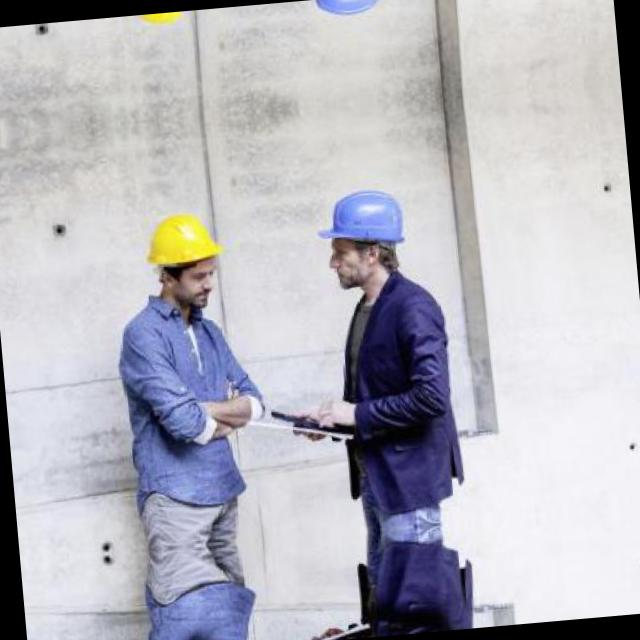helmet: (305, 164, 419, 308), (143, 200, 230, 310), (289, 0, 397, 43), (125, 10, 207, 38)
